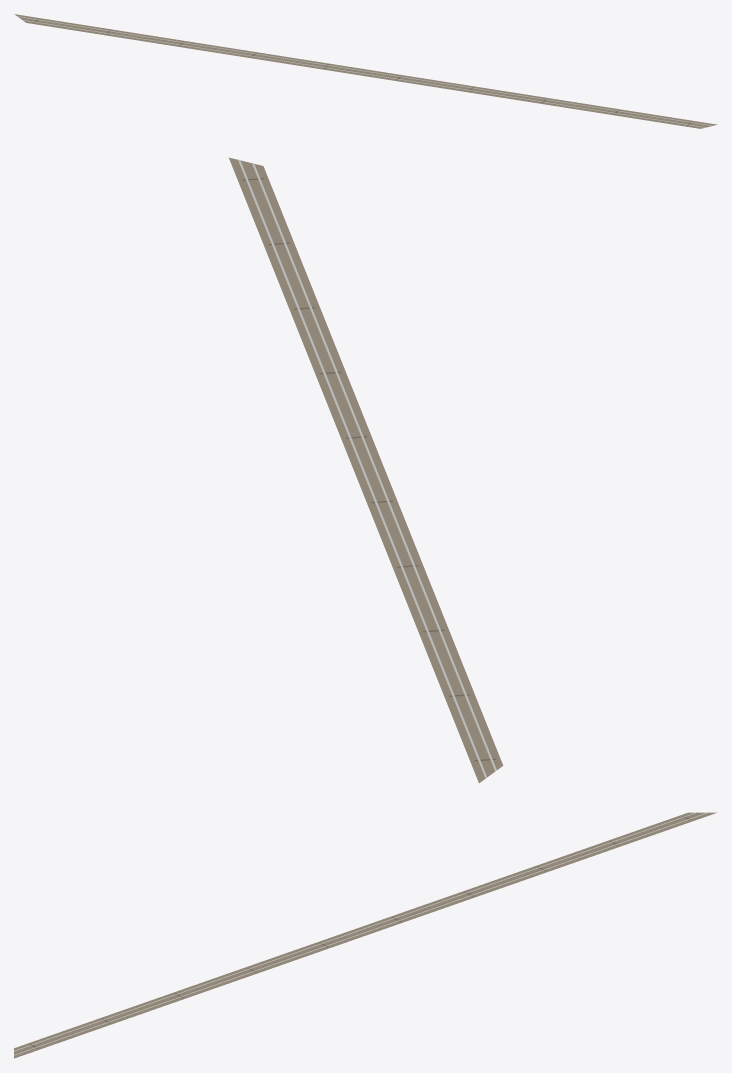
3 views of the same model, one above another, from view 1: azimuth 30°, elevation 25°; view 2: azimuth 150°, elevation 25°; view 3: azimuth 270°, elevation 25° (orthographic). The views are drawn at different scales.
Parts seen in each view (by area): view 1: rail; view 2: rail; view 3: rail.
Boxes of the visible parts, bbox=[...] form: rail: bbox=[14, 14, 717, 128]; rail: bbox=[229, 157, 503, 783]; rail: bbox=[14, 812, 716, 1058].
Size of the model in its own units: 111 by 0.04 by 135.
